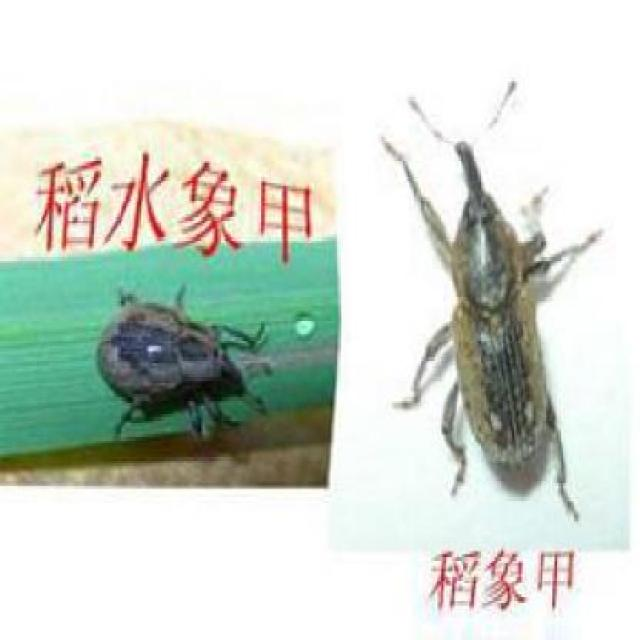rice-bug: (436, 131, 566, 480), (94, 291, 255, 427)
